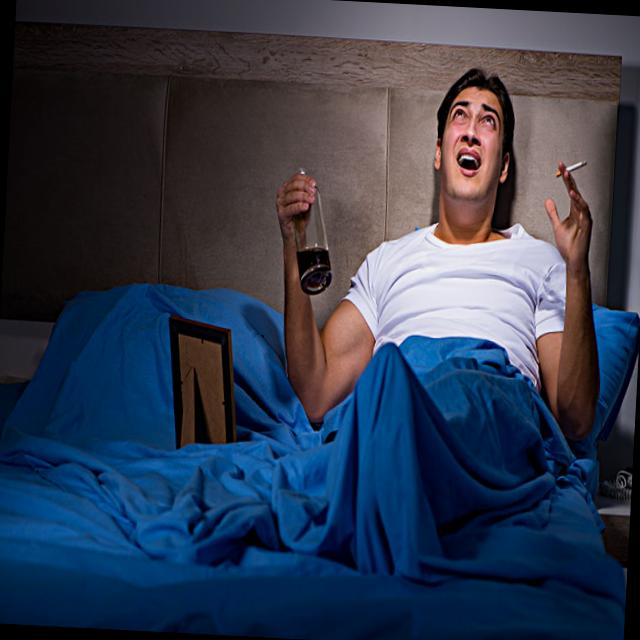smoke: (553, 154, 588, 182)
